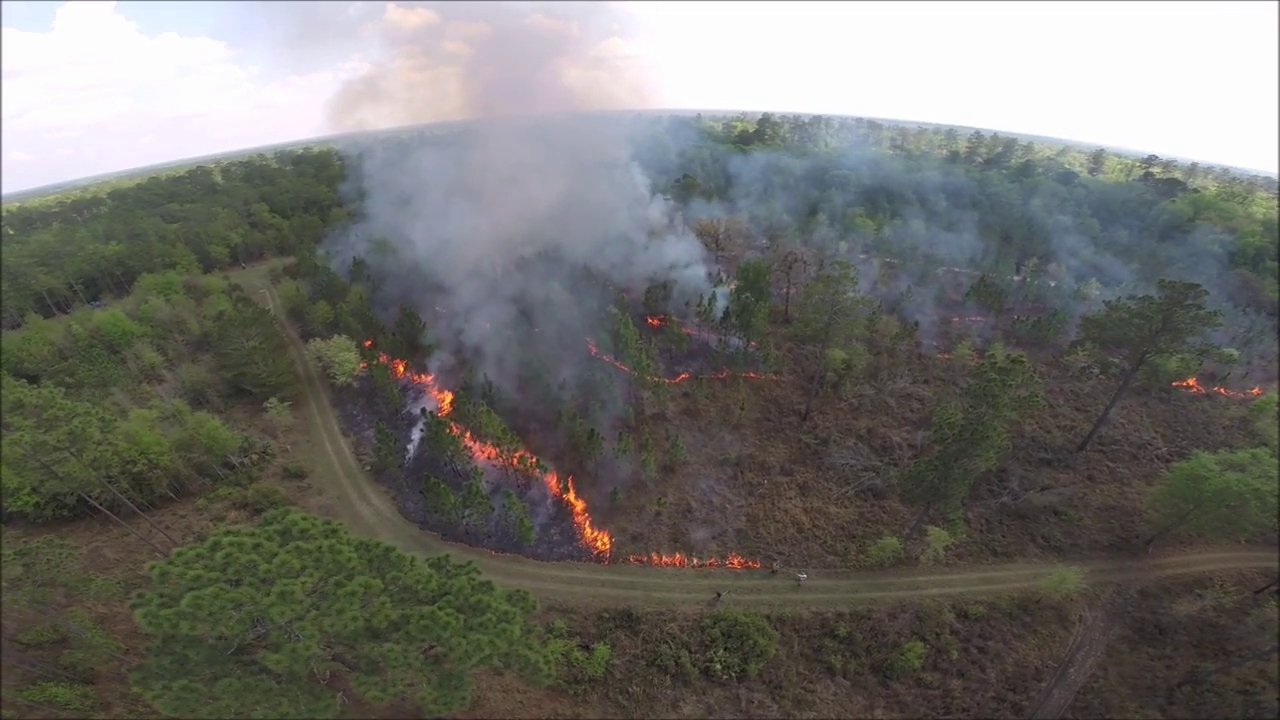forest_fire: (537, 470, 760, 568), (377, 352, 541, 471), (1170, 375, 1262, 397), (644, 316, 704, 339), (664, 371, 694, 383), (701, 371, 734, 378), (737, 372, 771, 378), (362, 339, 372, 347)
